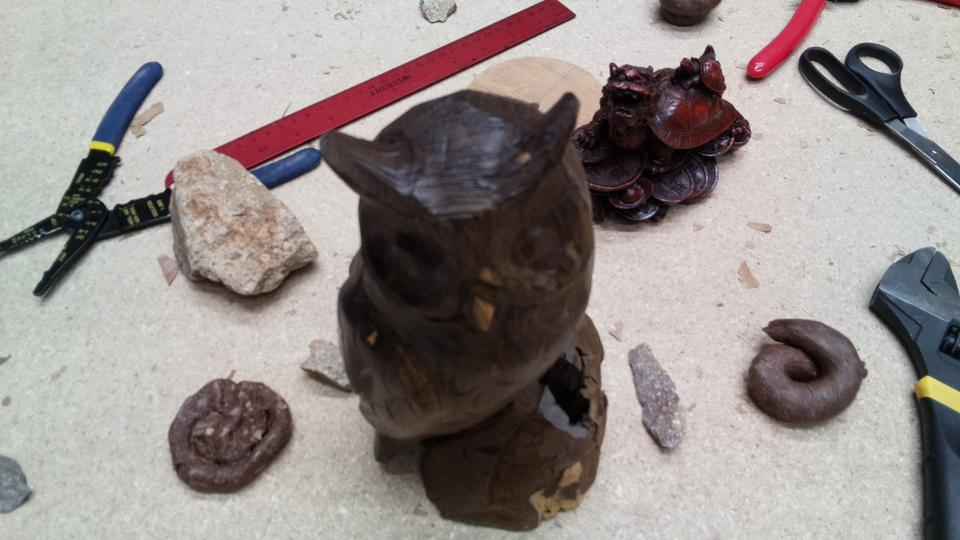poop: (165, 375, 298, 495), (745, 316, 870, 425), (654, 1, 720, 29)
